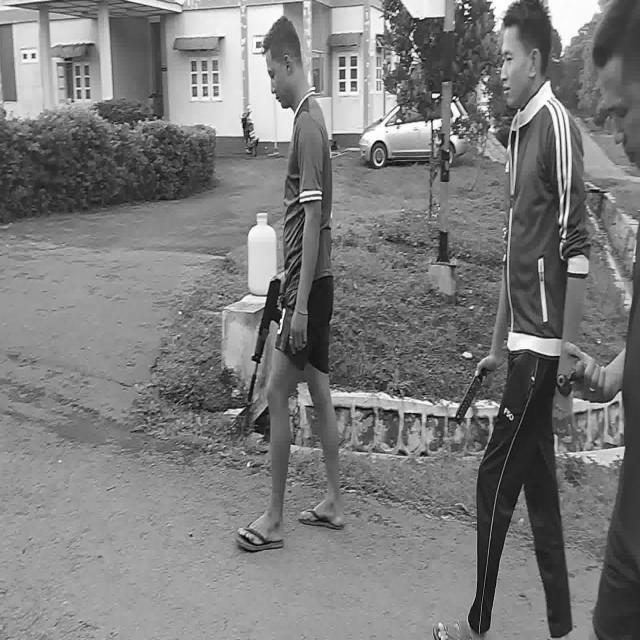gun: (247, 278, 282, 401), (556, 354, 582, 384)
